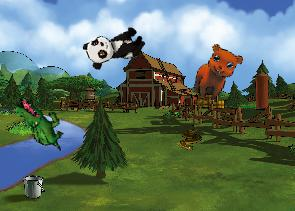bear: (190, 41, 245, 108)
crocodile: (5, 95, 74, 152)
panda: (81, 21, 148, 72)
